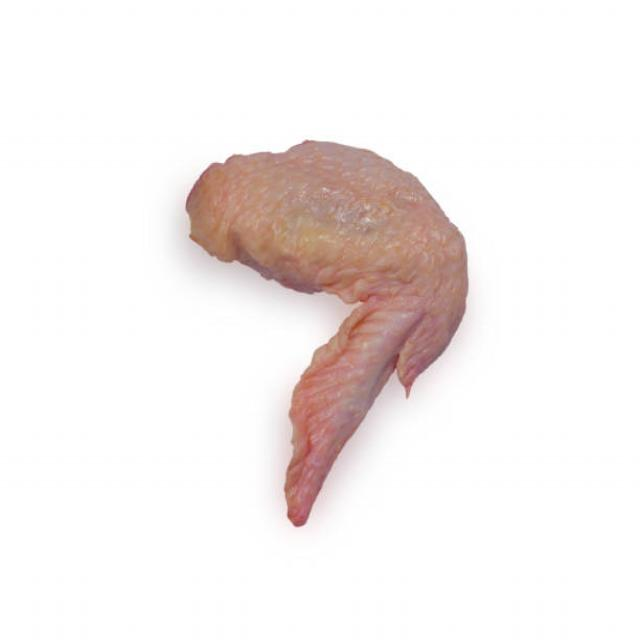chicken wing: (183, 131, 472, 537)
